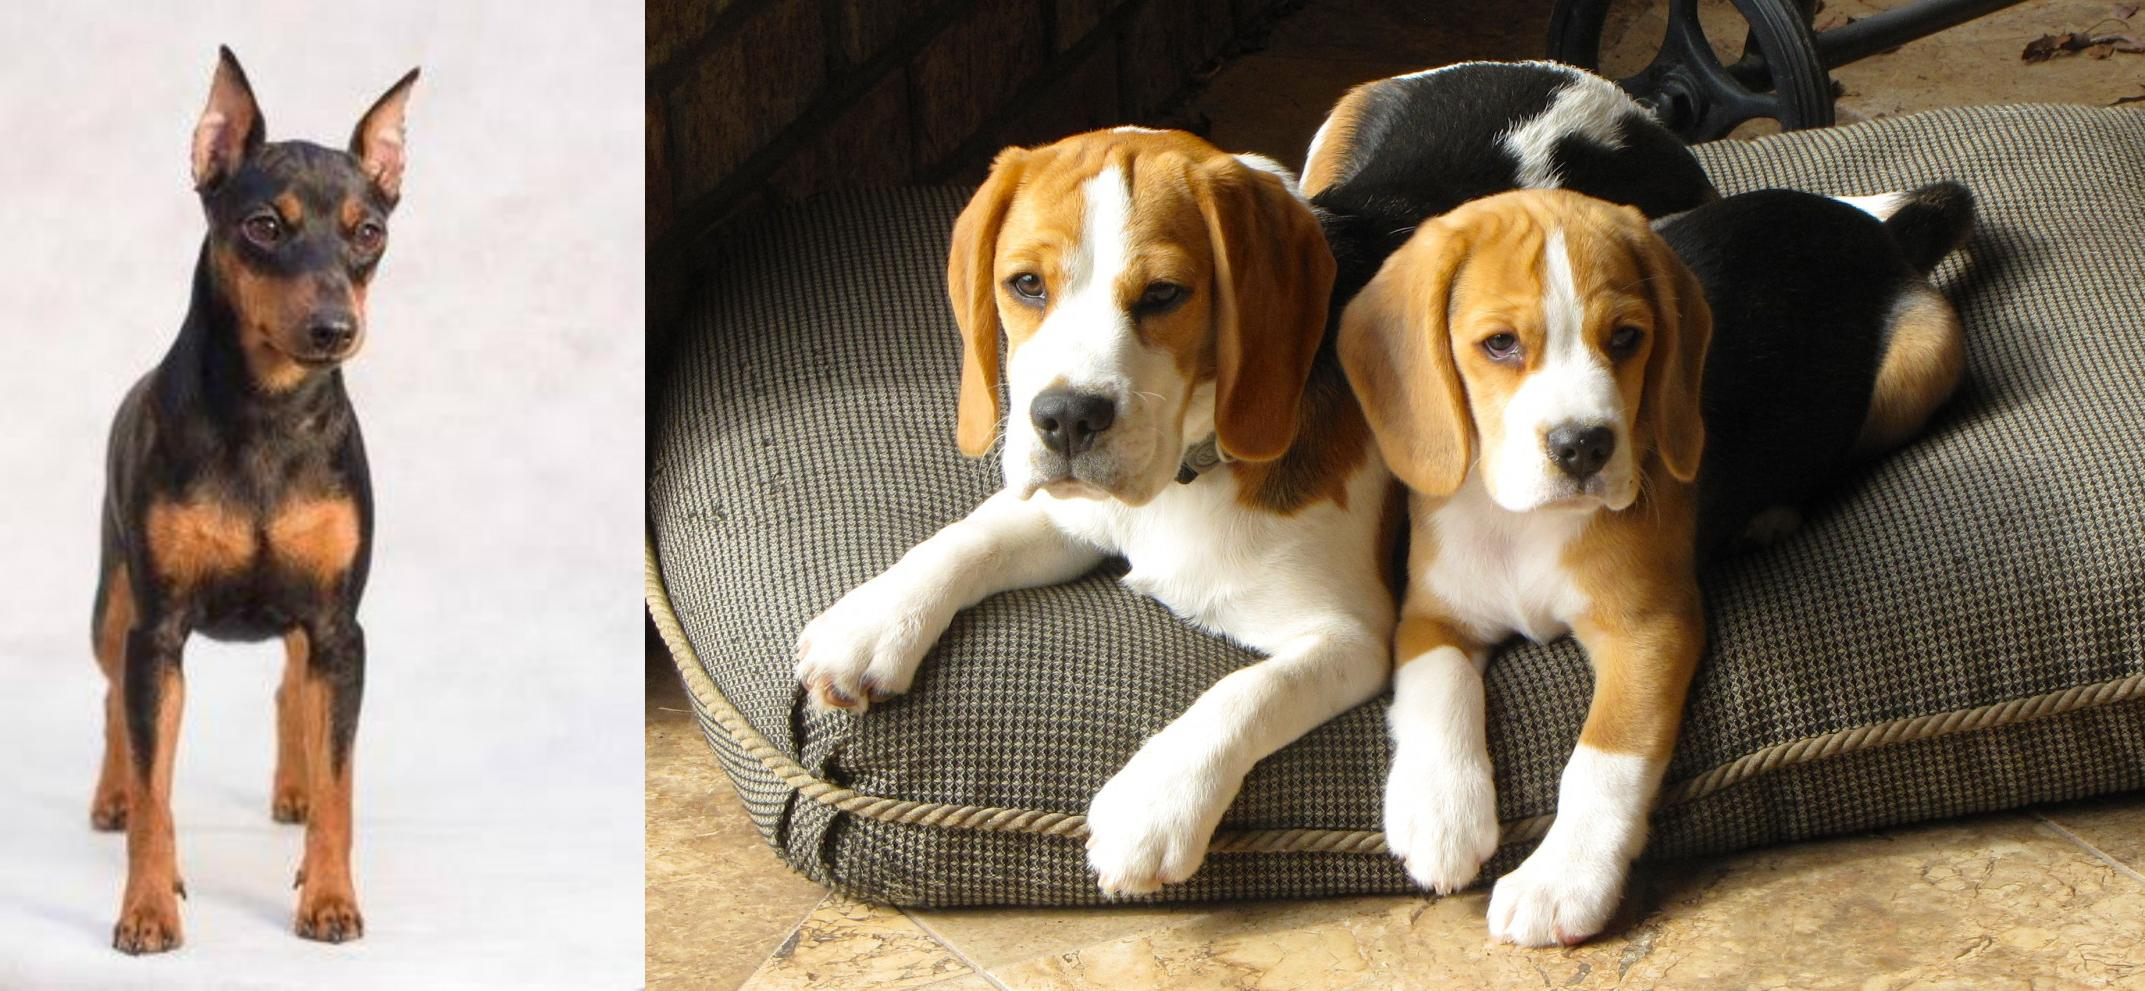dog: (789, 52, 1926, 890), (1331, 179, 1997, 955), (64, 38, 439, 958)
